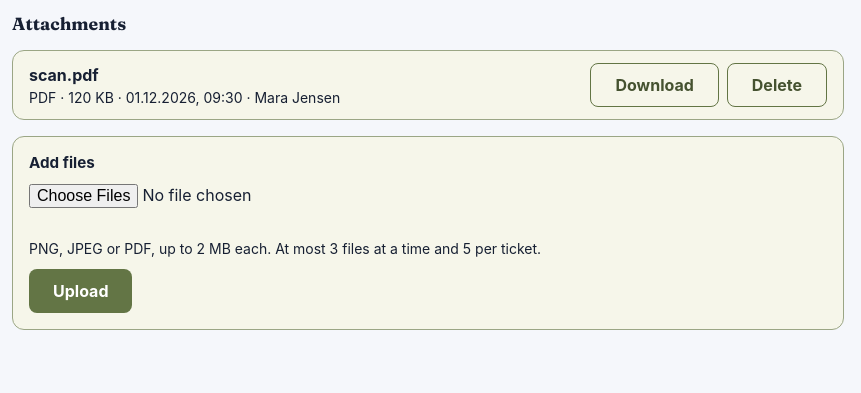
Scenario: delete › keeps the file and shows the server message when deleting is refused
Click the button with aria-label "Delete scan.pdf" at [777, 85], box [727,63,827,107]
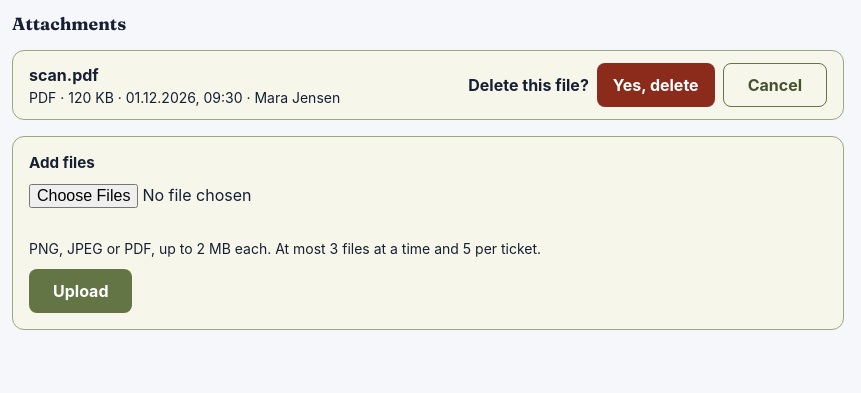
Click the button with aria-label "Yes, delete scan.pdf" at [656, 85], box [597,63,715,107]
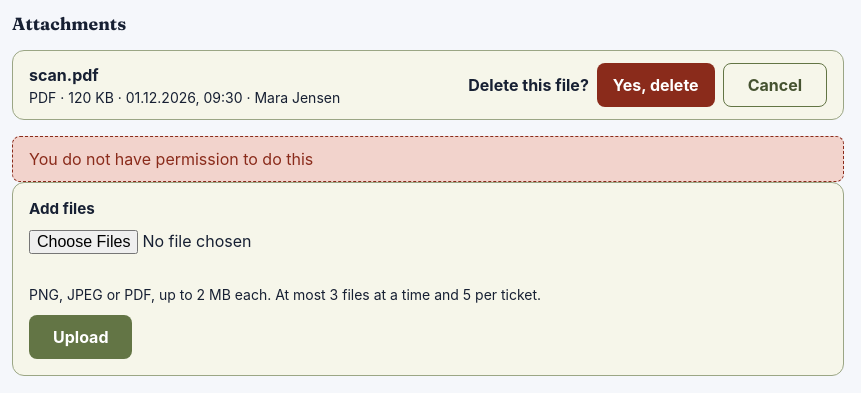
expect the text "scan.pdf" is shown: met, box [29,64,99,84]
expect the message reads "You do not have permission to do this": met, box [29,149,313,169]
